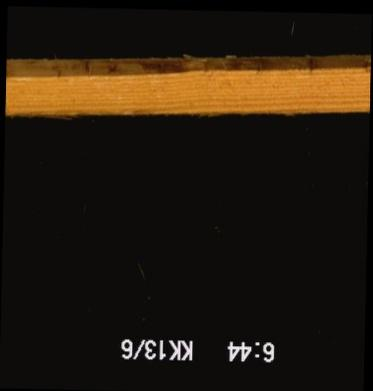wave: (5, 98, 368, 127), (9, 50, 367, 78)
